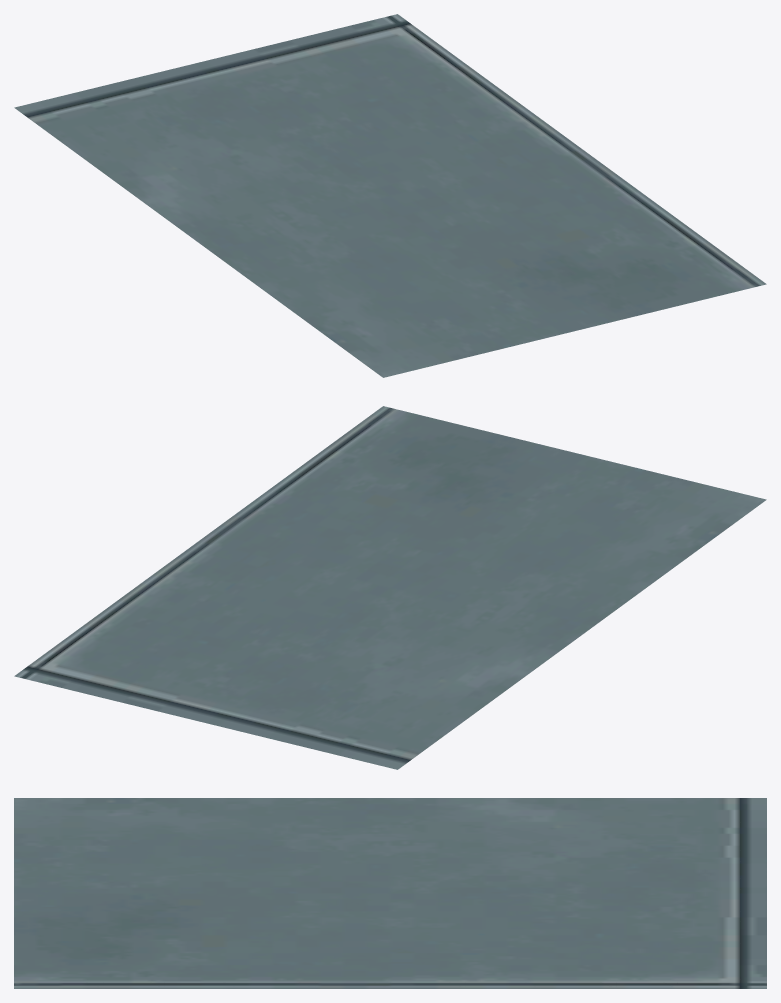
3 renders of one model, top to bottom at view 1: azimuth 30°, elevation 25°; view 2: azimuth 150°, elevation 25°; view 3: azimuth 270°, elevation 25°, orthographic.
Parts seen in each view (by area): view 1: Joint_0_Object_0; view 2: Joint_0_Object_0; view 3: Joint_0_Object_0.
Boxes of the visible parts, x1=… form: Joint_0_Object_0: x1=14, y1=14, x2=766, y2=377; Joint_0_Object_0: x1=14, y1=406, x2=766, y2=769; Joint_0_Object_0: x1=14, y1=798, x2=766, y2=988.
Bounding box in the file's own units: 6000 × 0 × 10000.
Materials: 1 (1 with a texture image).
